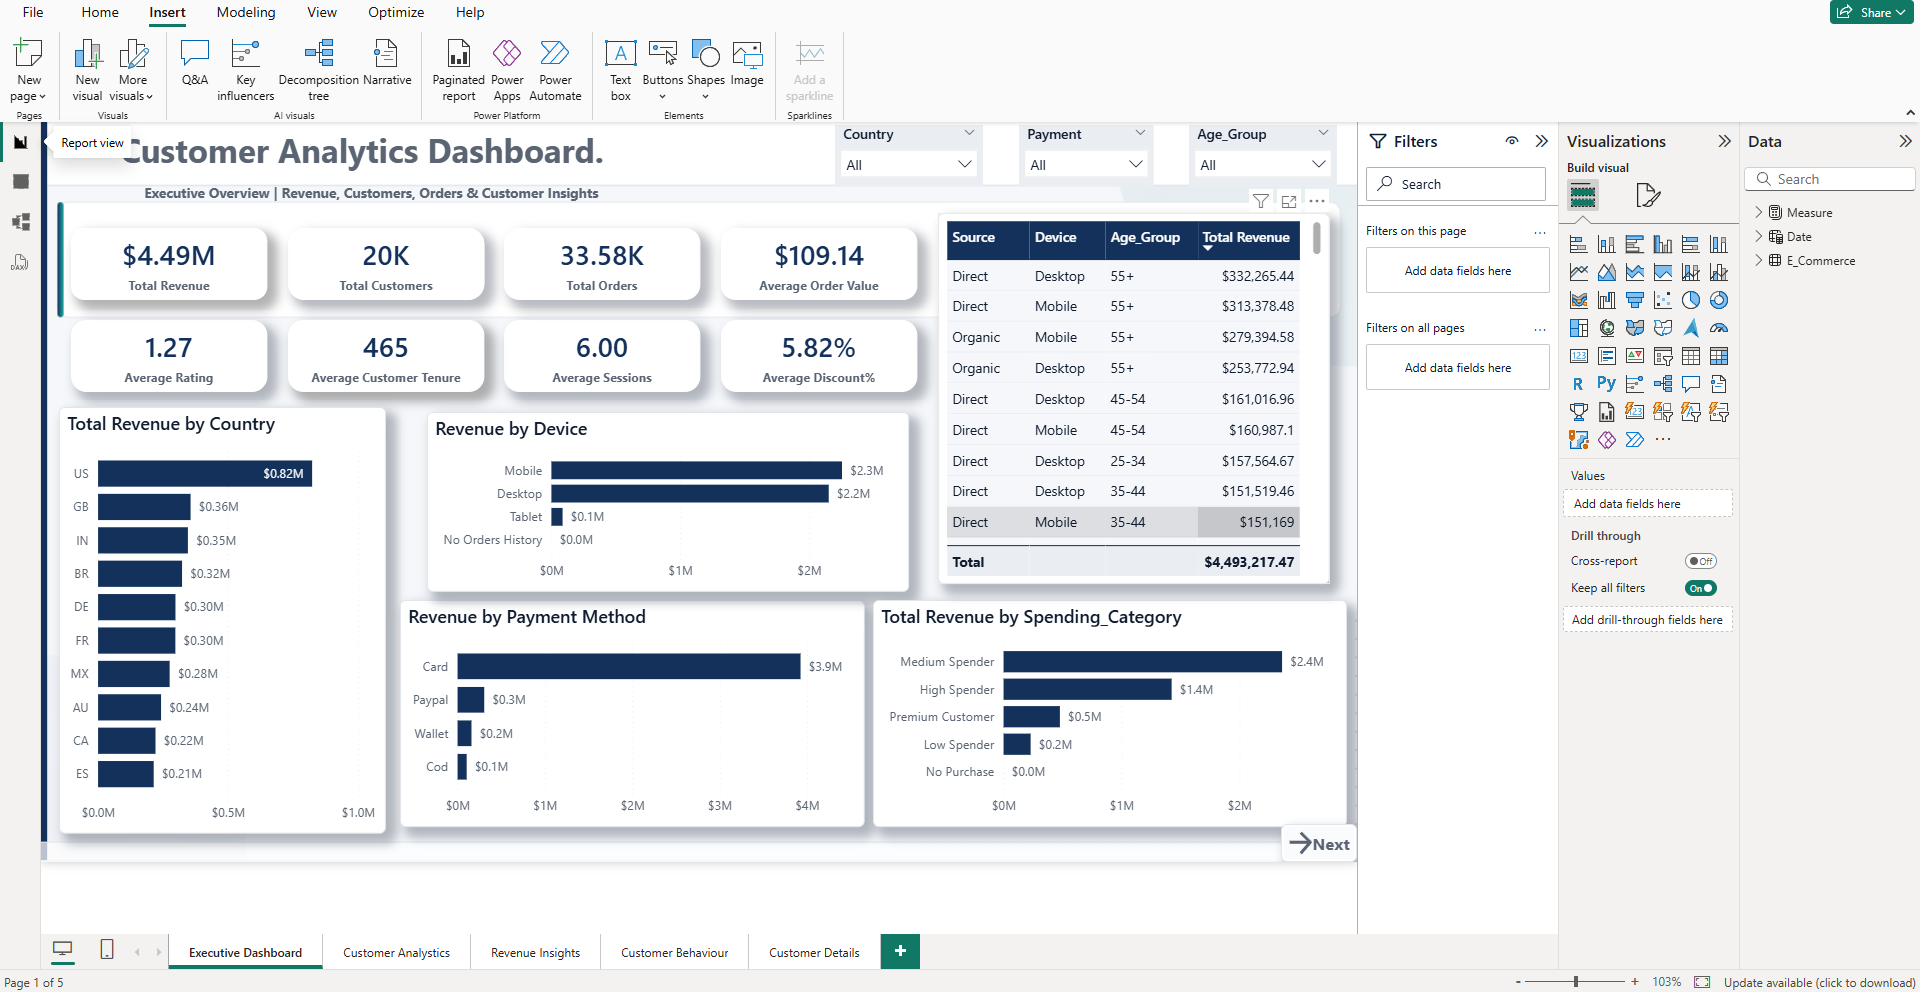

The dashboard page shown, as its layout file describes it:
{"tool":"powerbi","page":{"name":"Executive Dashboard","canvas":[1280,720],"ordinal":0},"visuals":[{"type":"card","fields":{"Values":["Measure.Average Rating"]},"box":[29.2,192.6,190.6,70],"z":0},{"type":"card","fields":{"Values":["Measure.Average Sessions"]},"box":[450.3,192.6,190.6,70],"z":1000},{"type":"card","fields":{"Values":["Measure.Total Customers"]},"box":[239.9,103.1,190.6,70],"z":2000},{"type":"card","fields":{"Values":["Measure.Total Revenue"]},"box":[29.2,103.1,190.6,70],"z":3000},{"type":"card","fields":{"Values":["Measure.Average Customer Tenure"]},"box":[240.2,192.6,190.6,70],"z":4000},{"type":"card","fields":{"Values":["Measure.Total Orders"]},"box":[450.7,103.1,190.6,70],"z":5000},{"type":"card","fields":{"Values":["Measure.Average_Order_value"]},"box":[661.4,103.1,190.6,70],"z":6000},{"type":"clusteredBarChart","fields":{"Y":["Measure.Total Revenue"],"Category":["E_Commerce.Country"]},"box":[17.5,277.2,318.1,415.3],"z":7000},{"type":"clusteredBarChart","title":"Revenue by Payment Method","fields":{"Y":["Measure.Total Revenue"],"Category":["E_Commerce.Preferred_Payment"]},"box":[349.2,464.9,452.3,220.8],"z":8000},{"type":"clusteredBarChart","title":"Revenue by Device","fields":{"Y":["Measure.Total Revenue"],"Category":["E_Commerce.Preferred_Device_Ord"]},"box":[375.4,282.1,468.8,175.1],"z":9000},{"type":"clusteredBarChart","fields":{"Y":["Measure.Total Revenue"],"Category":["E_Commerce.Spending_Category","E_Commerce.Country"]},"box":[809.2,464.9,461,220.8],"z":10000},{"type":"slicer","fields":{"Values":["E_Commerce.Country"]},"box":[772.3,2.9,144,60.3],"z":11000},{"type":"slicer","fields":{"Values":["E_Commerce.Preferred_Payment"]},"box":[950.8,2.9,131.3,60.3],"z":12000},{"type":"card","fields":{"Values":["Measure.Average Discount%"]},"box":[661.4,192.6,190.6,70],"z":13000},{"type":"textbox","box":[72,0,518.4,66.1],"z":14000},{"type":"textbox","box":[95.3,54.5,463,41.8],"z":15000},{"type":"tableEx","fields":{"Values":["E_Commerce.Preferred_Source","E_Commerce.Preferred_Device_Ord","E_Commerce.Age_Group","Measure.Total Revenue"]},"box":[872.5,88.5,381.3,360.9],"z":16000},{"type":"slicer","fields":{"Values":["E_Commerce.Age_Group"]},"box":[1116.6,2.9,144,60.3],"z":17000},{"type":"actionButton","box":[1206.1,682.8,73.9,37],"z":17001}]}

Visuals, with their boxes on the page's 1280x720 design canvas (x1, y1, x2, y2). These are canvas units, not pixel positions in the 1920x992 screenshot, which may show the page scaled, cropped or inside an application window:
card - Measure.Average Rating: <bbox>29, 193, 220, 263</bbox>
card - Measure.Average Sessions: <bbox>450, 193, 641, 263</bbox>
card - Measure.Total Customers: <bbox>240, 103, 430, 173</bbox>
card - Measure.Total Revenue: <bbox>29, 103, 220, 173</bbox>
card - Measure.Average Customer Tenure: <bbox>240, 193, 431, 263</bbox>
card - Measure.Total Orders: <bbox>451, 103, 641, 173</bbox>
card - Measure.Average_Order_value: <bbox>661, 103, 852, 173</bbox>
clusteredBarChart - Measure.Total Revenue x E_Commerce.Country: <bbox>18, 277, 336, 692</bbox>
"Revenue by Payment Method" clusteredBarChart: <bbox>349, 465, 802, 686</bbox>
"Revenue by Device" clusteredBarChart: <bbox>375, 282, 844, 457</bbox>
clusteredBarChart - Measure.Total Revenue x E_Commerce.Spending_Category: <bbox>809, 465, 1270, 686</bbox>
slicer - E_Commerce.Country: <bbox>772, 3, 916, 63</bbox>
slicer - E_Commerce.Preferred_Payment: <bbox>951, 3, 1082, 63</bbox>
card - Measure.Average Discount%: <bbox>661, 193, 852, 263</bbox>
textbox: <bbox>72, 0, 590, 66</bbox>
textbox: <bbox>95, 54, 558, 96</bbox>
tableEx - E_Commerce.Preferred_Source x E_Commerce.Preferred_Device_Ord: <bbox>872, 88, 1254, 449</bbox>
slicer - E_Commerce.Age_Group: <bbox>1117, 3, 1261, 63</bbox>
actionButton: <bbox>1206, 683, 1280, 720</bbox>
